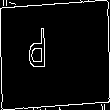P_S: (45, 29, 65, 81)
